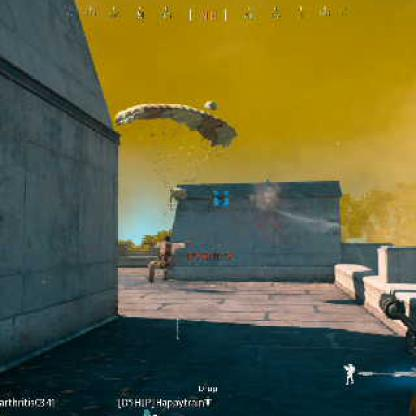enemy: (142, 233, 178, 283)
